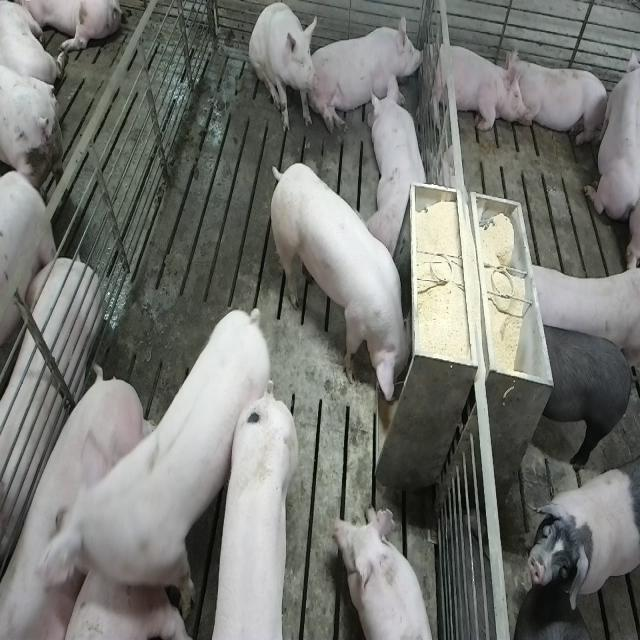Feeding: (273, 161, 419, 408)
Lateral_lying: (0, 370, 156, 640), (0, 260, 103, 623)
Sitting: (249, 2, 319, 137)
Standing: (41, 298, 271, 633), (216, 378, 301, 635), (525, 467, 638, 616), (534, 320, 635, 462), (520, 257, 637, 370)
Sternal_lying: (336, 505, 438, 640), (314, 10, 424, 135), (369, 73, 430, 257), (510, 51, 610, 149), (425, 36, 523, 135), (585, 38, 637, 224)
